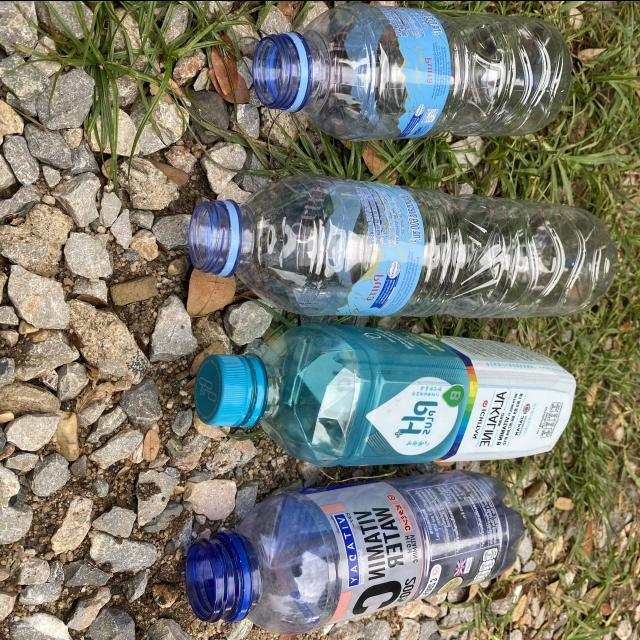plastik: (189, 174, 617, 317), (185, 470, 524, 634), (194, 322, 576, 465), (253, 3, 572, 140)
